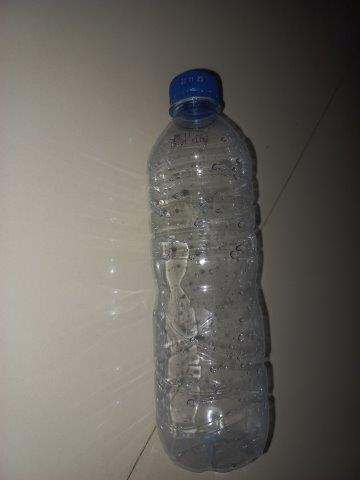botolplastik: (147, 69, 272, 471)
